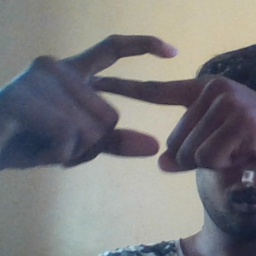E: (64, 32, 183, 161)
